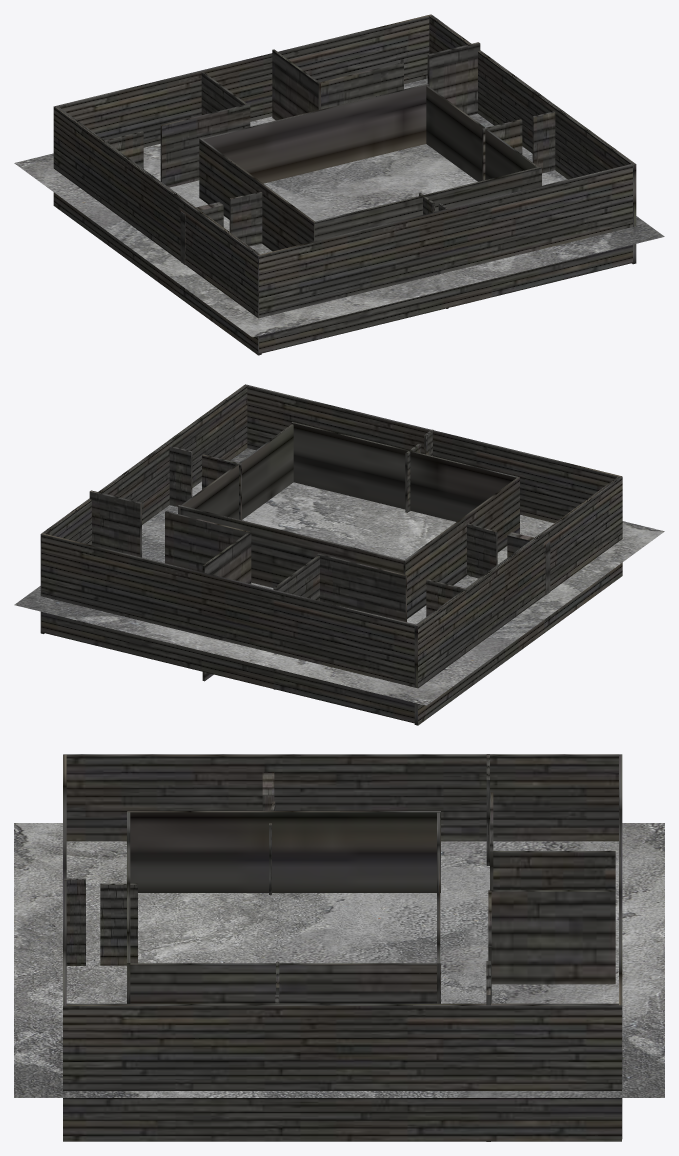
File: podval.fbx
3 views of the same model, one above another, from view 1: azimuth 30°, elevation 25°; view 2: azimuth 150°, elevation 25°; view 3: azimuth 270°, elevation 25° (orthographic). The views are drawn at different scales.
Visible parts, largest first — view 1: Cube.002, Plane, Cube, Cube.001, Cube.006, Cube.003, Cube.005, Cube.004, Cube.007, Cube.008, Cube.017, Cube.011 (+7 smaller); view 2: Cube.001, Plane, Cube, Cube.002, Cube.007, Cube.003, Cube.005, Cube.006, Cube.004, Cube.008, Cube.010, Cube.017 (+7 smaller); view 3: Cube.003, Plane, Cube, Cube.005, Cube.004, Cube.011, Cube.009, Cube.018, Cube.019, Cube.001, Cube.002, Cube.007 (+1 smaller).
Boxes of the visible parts, left/top/right/bottom form: Cube.002: left=258, top=163, right=635, bottom=353; Plane: left=14, top=78, right=664, bottom=337; Cube: left=53, top=106, right=261, bottom=355; Cube.001: left=54, top=14, right=431, bottom=147; Cube.006: left=202, top=83, right=428, bottom=183; Cube.003: left=429, top=14, right=636, bottom=264; Cube.005: left=199, top=138, right=315, bottom=251; Cube.004: left=426, top=86, right=538, bottom=181; Cube.007: left=314, top=166, right=541, bottom=240; Cube.008: left=160, top=104, right=250, bottom=187; Cube.017: left=427, top=42, right=480, bottom=115; Cube.011: left=272, top=49, right=320, bottom=120; Cube.001: left=41, top=533, right=418, bottom=723; Plane: left=14, top=448, right=664, bottom=705; Cube: left=414, top=476, right=622, bottom=725; Cube.002: left=244, top=384, right=621, bottom=522; Cube.007: left=291, top=422, right=517, bottom=521; Cube.003: left=40, top=385, right=247, bottom=633; Cube.005: left=403, top=477, right=519, bottom=618; Cube.006: left=178, top=505, right=403, bottom=587; Cube.004: left=178, top=424, right=293, bottom=519; Cube.008: left=317, top=553, right=406, bottom=621; Cube.010: left=165, top=511, right=249, bottom=572; Cube.017: left=89, top=490, right=141, bottom=557; Cube.003: left=63, top=1003, right=621, bottom=1141; Plane: left=14, top=823, right=664, bottom=1097; Cube: left=63, top=754, right=618, bottom=841; Cube.005: left=127, top=811, right=440, bottom=892; Cube.004: left=130, top=963, right=440, bottom=1003; Cube.011: left=488, top=890, right=615, bottom=984; Cube.009: left=493, top=851, right=615, bottom=890; Cube.018: left=100, top=883, right=137, bottom=965; Cube.019: left=64, top=878, right=85, bottom=965; Cube.001: left=619, top=754, right=622, bottom=1138; Cube.002: left=63, top=754, right=66, bottom=1005; Cube.007: left=127, top=812, right=130, bottom=1003.
Bounding box in the file's own units: 3884 × 1058 × 3884.
